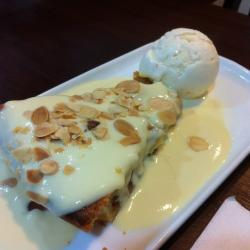apple_pie: (5, 79, 186, 232)
chantilly: (24, 97, 156, 183)
icecream: (135, 25, 219, 108)
